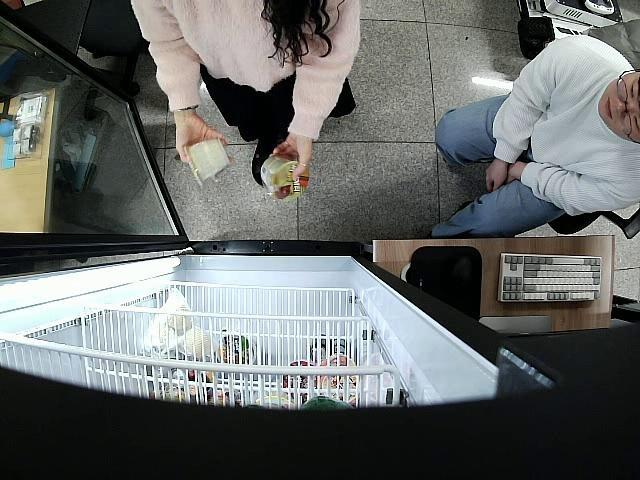04_chapagetti_S: (181, 138, 230, 189), (260, 156, 310, 200)
